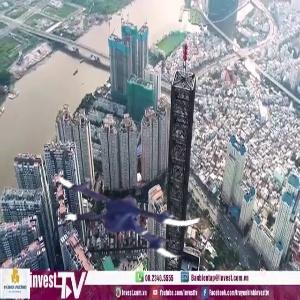drone: (59, 131, 205, 277)
